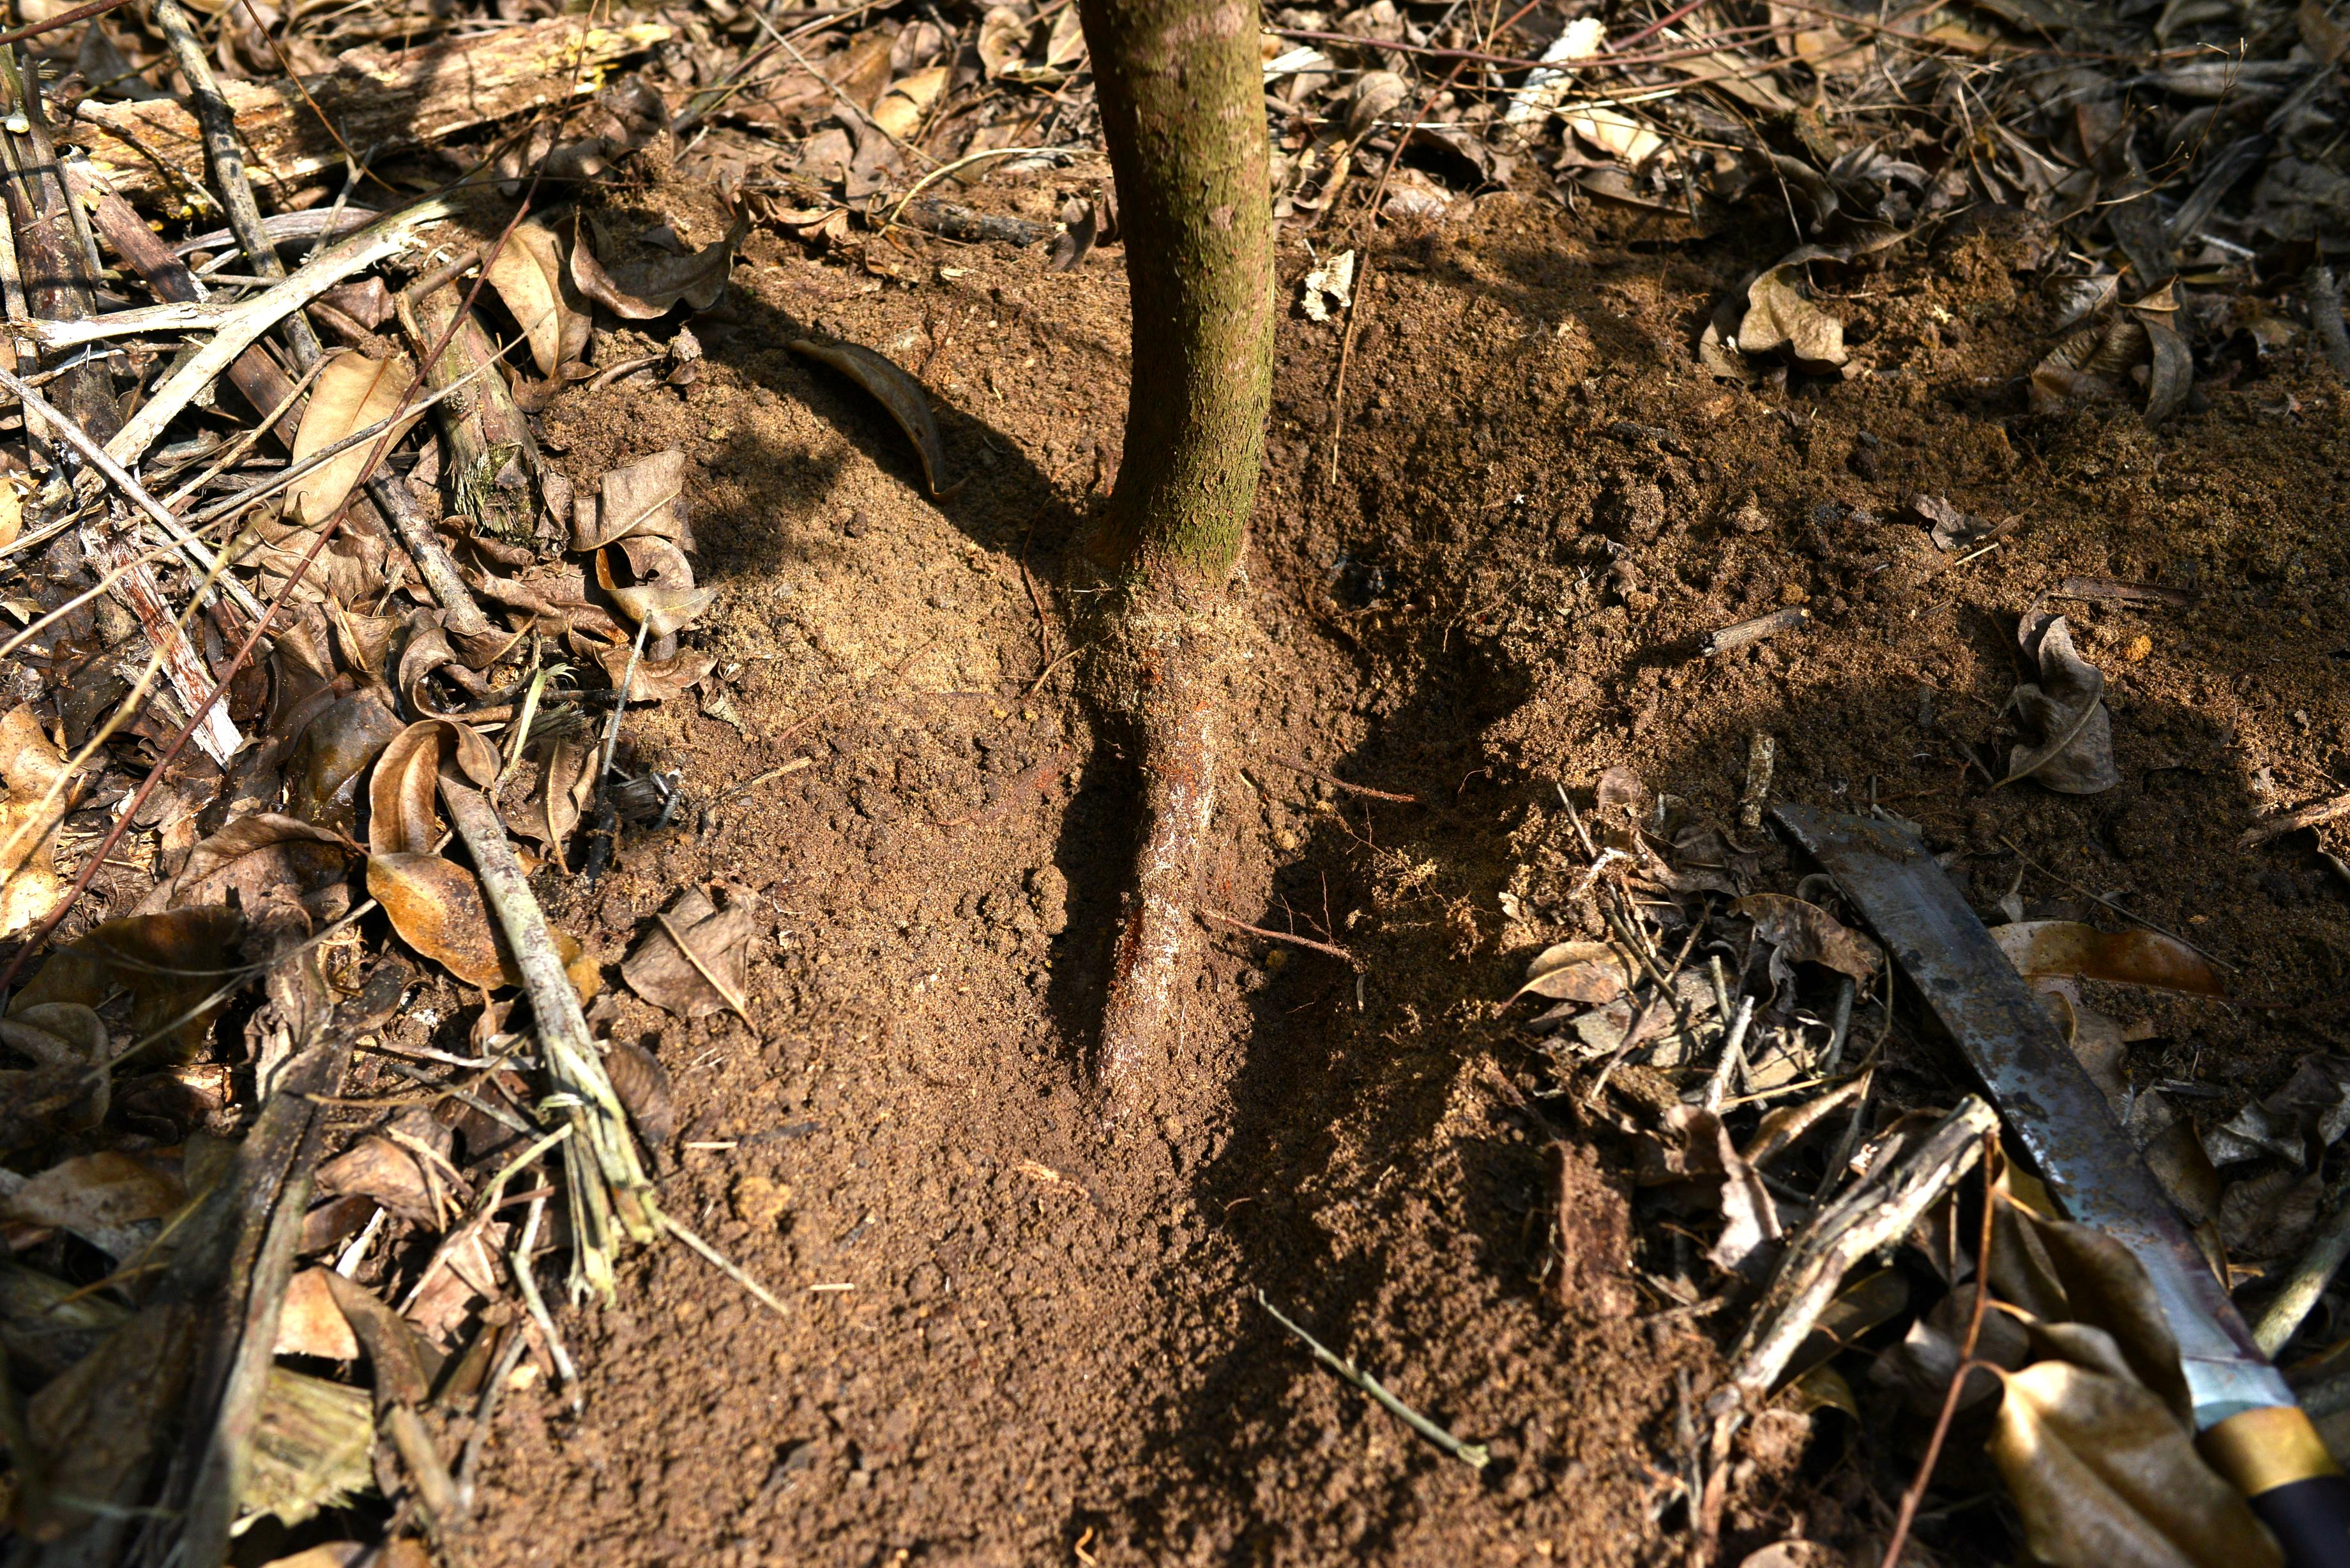Ganoderma - Mycelium: (1111, 712, 1228, 1092), (1127, 569, 1281, 679)
